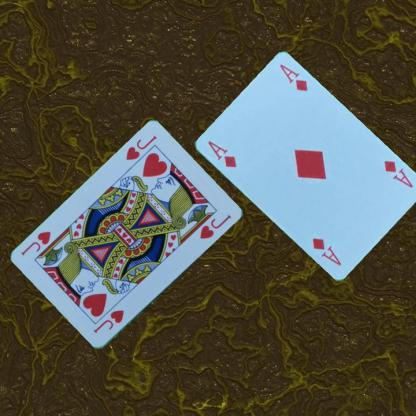Ad: (381, 158, 414, 190), (205, 138, 238, 169)
Jh: (123, 133, 158, 162), (91, 307, 125, 335)
